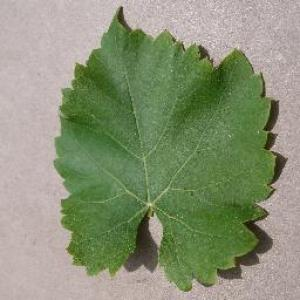Folha: (53, 4, 280, 290)
